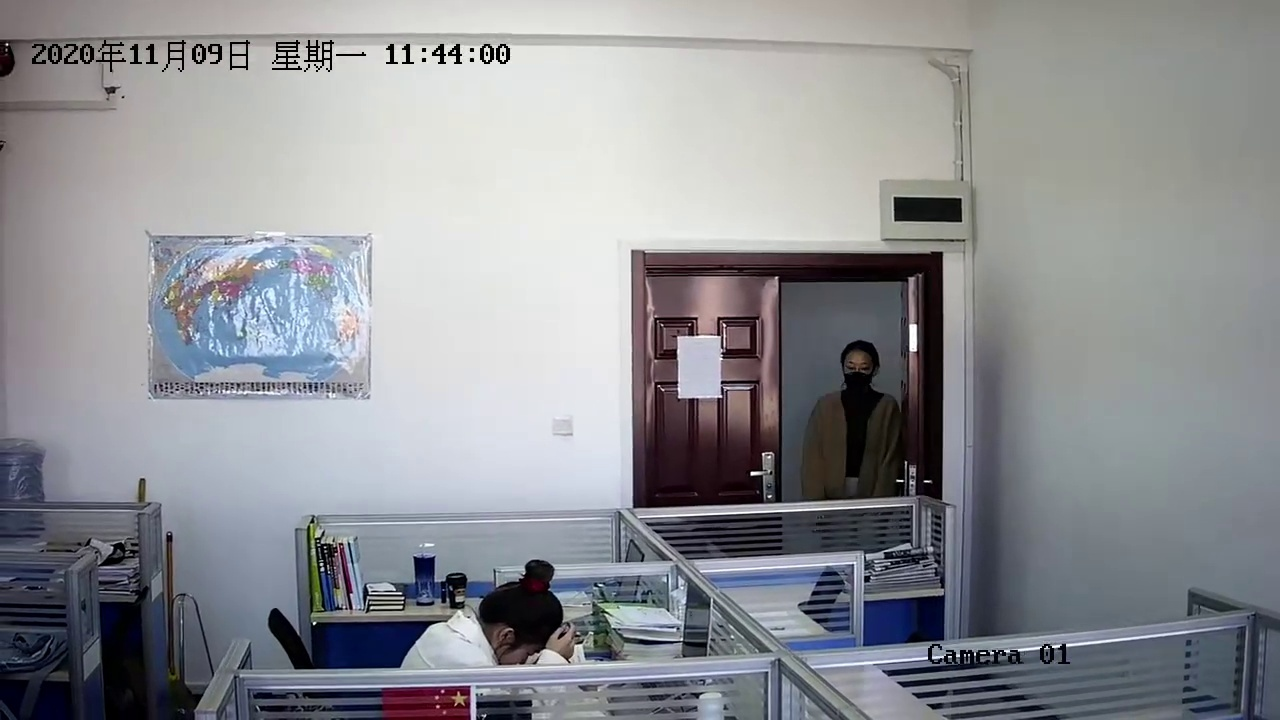mask: (837, 335, 880, 394)
